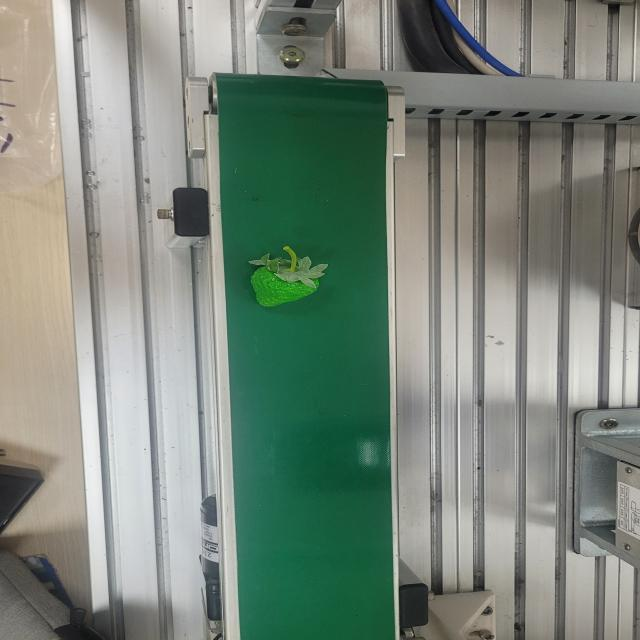Small Unripe Strawberry: (246, 245, 327, 307)
